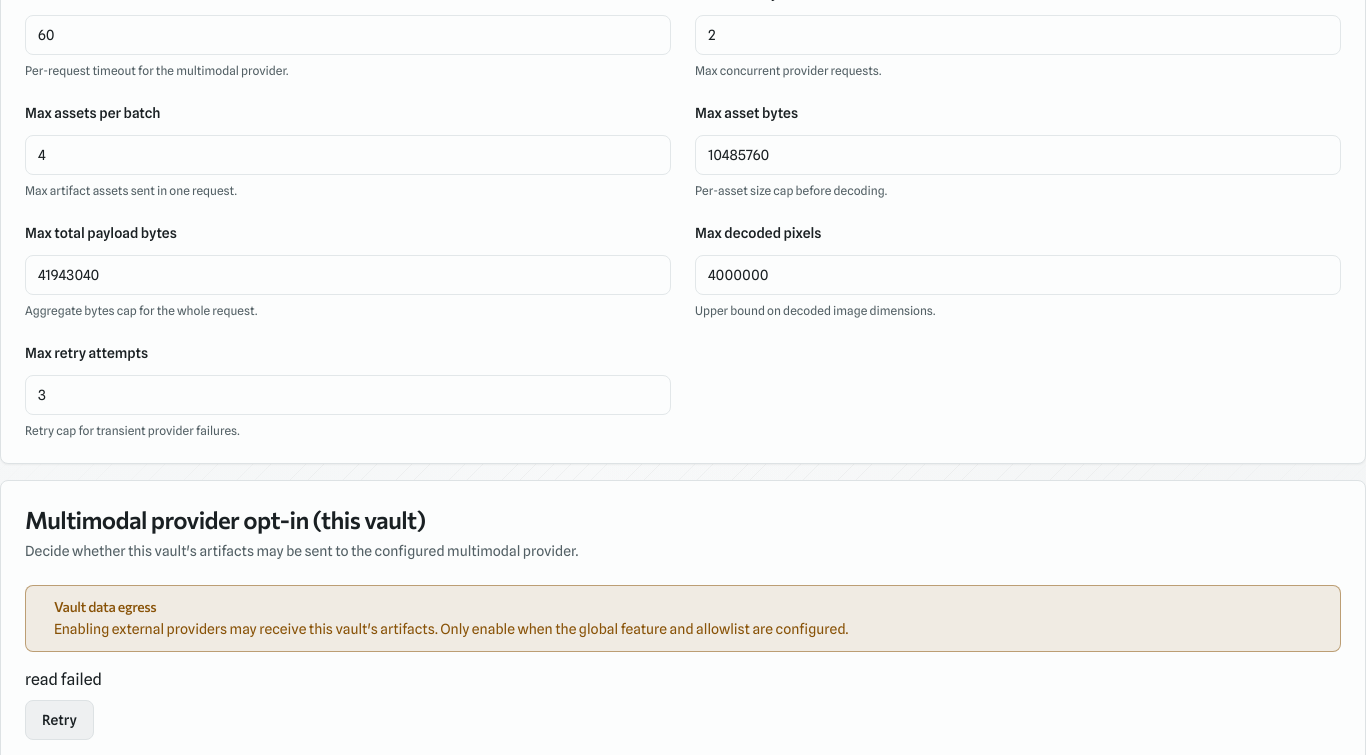
Scenario: ModelsTab issue #775 lifecycle › shows a vault read error and recovers through Retry with a valid response
This screenshot has width=1366, height=755.
(page scrolled)
Expected: the text "read failed" is shown, [25,670,102,689]
Click the button "Retry". click: (59, 720)
box: [25,700,94,740]
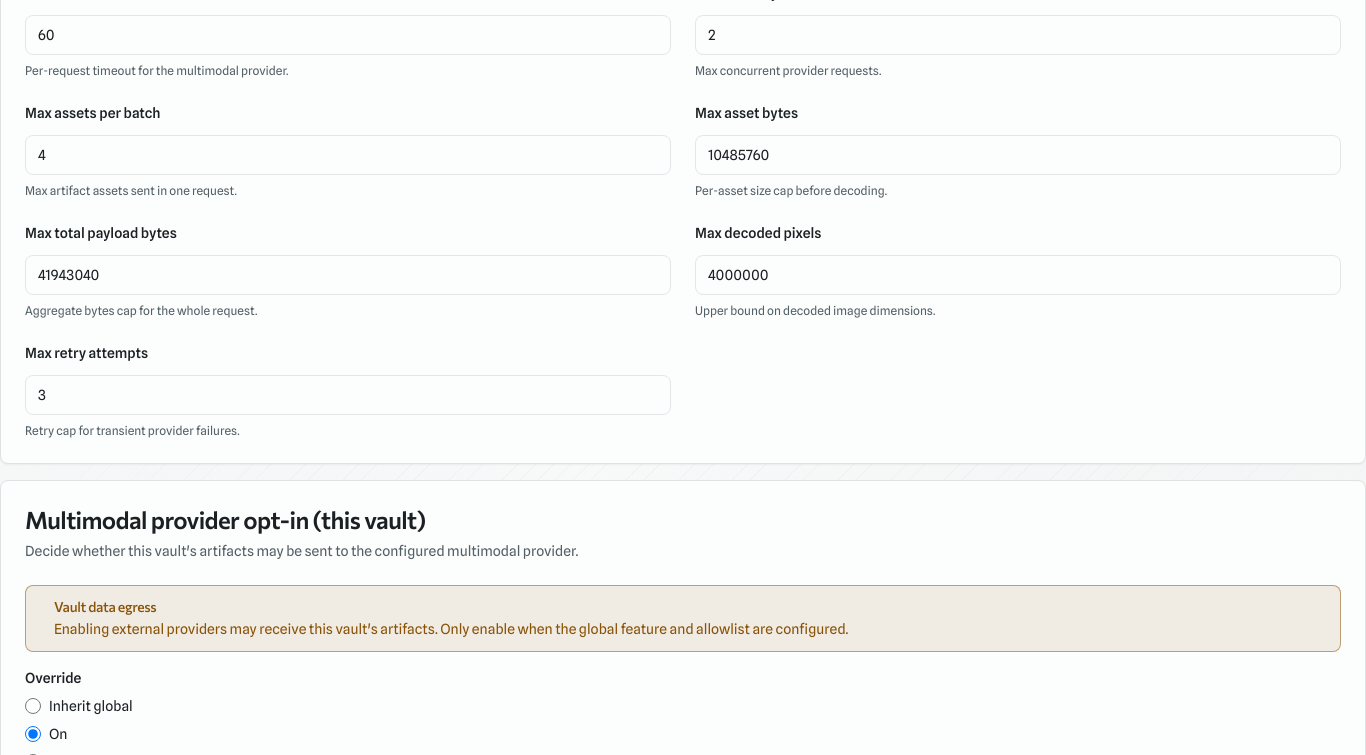
Result: the radio button labelled "On" is checked at [25,726,41,742]
